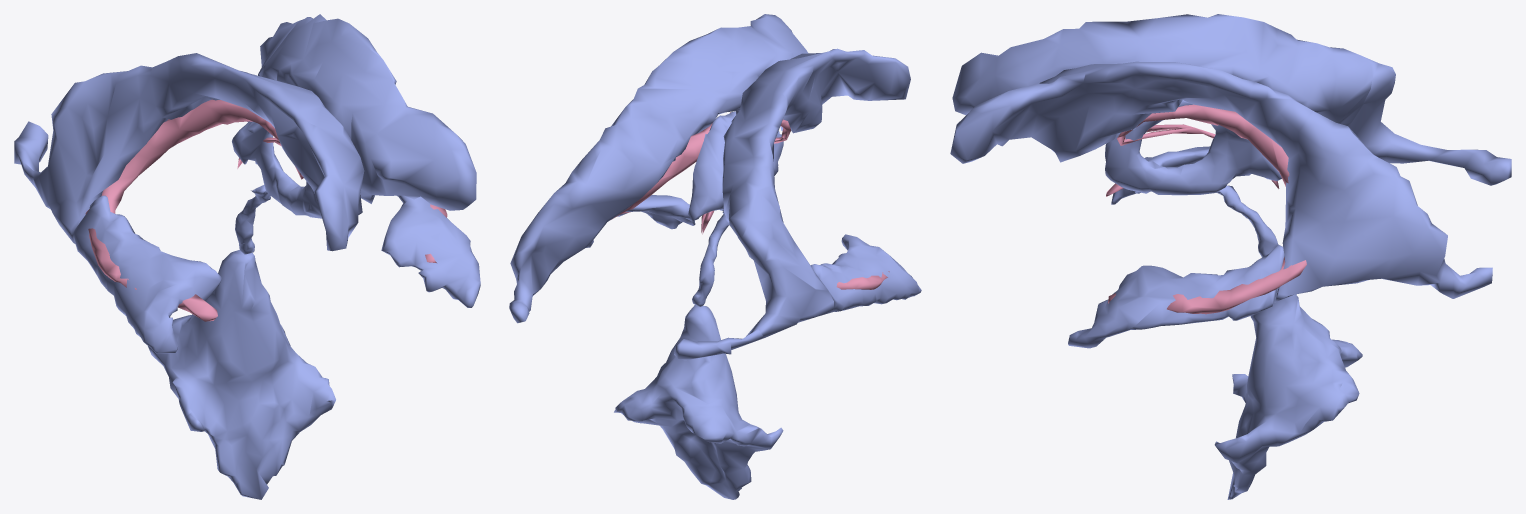
The model's file is ventricles.lod2.glb.
3 renders of one model, left to right at view 1: azimuth 30°, elevation 25°; view 2: azimuth 150°, elevation 25°; view 3: azimuth 270°, elevation 25°, orthographic. The views are drawn at different scales.
Parts seen in each view (by area): view 1: lateral-ventricle-r, fourth-ventricle, lateral-ventricle-l, temporal-horn-of-lateral-ventricle-r, temporal-horn-of-lateral-ventricle-l, choroid-plexus-of-cerebral-hemisphere, third-ventricle, aqueduct; view 2: lateral-ventricle-l, lateral-ventricle-r, fourth-ventricle, temporal-horn-of-lateral-ventricle-r, third-ventricle, choroid-plexus-of-cerebral-hemisphere, temporal-horn-of-lateral-ventricle-l, aqueduct; view 3: lateral-ventricle-l, lateral-ventricle-r, fourth-ventricle, temporal-horn-of-lateral-ventricle-l, third-ventricle, choroid-plexus-of-cerebral-hemisphere, aqueduct, temporal-horn-of-lateral-ventricle-r.
Boxes of the visible parts, left/top/right/bottom form: lateral-ventricle-r: left=14, top=53, right=364, bottom=251; fourth-ventricle: left=148, top=249, right=335, bottom=499; lateral-ventricle-l: left=247, top=14, right=476, bottom=210; temporal-horn-of-lateral-ventricle-r: left=73, top=195, right=221, bottom=353; temporal-horn-of-lateral-ventricle-l: left=381, top=195, right=480, bottom=307; choroid-plexus-of-cerebral-hemisphere: left=85, top=99, right=447, bottom=321; third-ventricle: left=232, top=121, right=321, bottom=218; aqueduct: left=235, top=185, right=270, bottom=254; lateral-ventricle-l: left=509, top=14, right=807, bottom=323; lateral-ventricle-r: left=674, top=48, right=910, bottom=360; fourth-ventricle: left=614, top=305, right=783, bottom=499; temporal-horn-of-lateral-ventricle-r: left=810, top=234, right=921, bottom=311; third-ventricle: left=688, top=111, right=783, bottom=221; choroid-plexus-of-cerebral-hemisphere: left=611, top=112, right=889, bottom=289; temporal-horn-of-lateral-ventricle-l: left=617, top=195, right=699, bottom=229; aqueduct: left=692, top=211, right=729, bottom=306; lateral-ventricle-l: left=950, top=61, right=1492, bottom=302; lateral-ventricle-r: left=952, top=14, right=1511, bottom=185; fourth-ventricle: left=1214, top=288, right=1362, bottom=499; temporal-horn-of-lateral-ventricle-l: left=1068, top=244, right=1284, bottom=348; third-ventricle: left=1105, top=100, right=1281, bottom=195; choroid-plexus-of-cerebral-hemisphere: left=1106, top=104, right=1306, bottom=314; aqueduct: left=1216, top=185, right=1278, bottom=257; temporal-horn-of-lateral-ventricle-r: left=1111, top=146, right=1210, bottom=204.
Size of the model in its own units: 0.0753 by 0.1019 by 0.1103.
